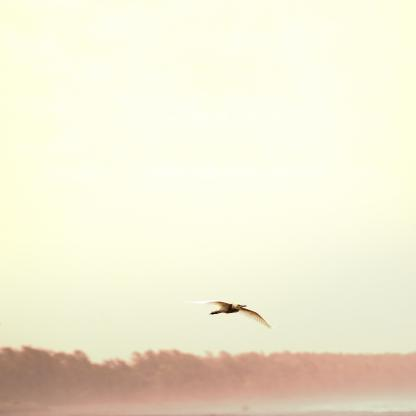bird: (193, 300, 270, 326)
